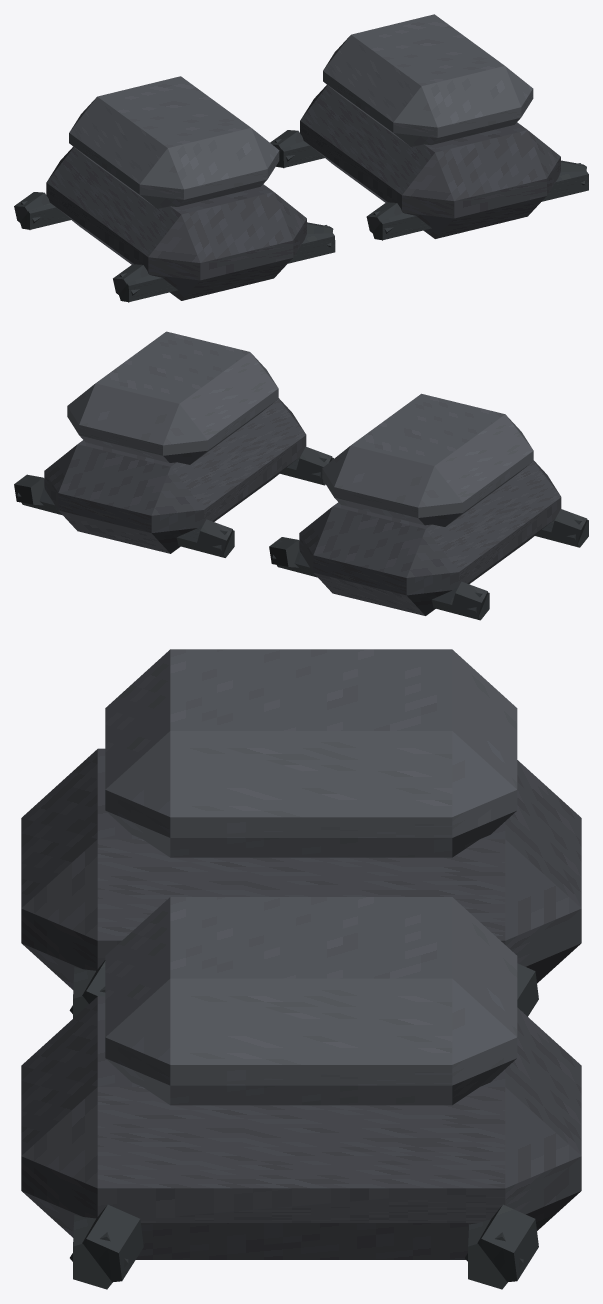
The model's file is elbow_pads.glb.
3 renders of one model, top to bottom at view 1: azimuth 30°, elevation 25°; view 2: azimuth 150°, elevation 25°; view 3: azimuth 270°, elevation 25°, orthographic. The views are drawn at different scales.
Parts seen in each view (by area): view 1: block_padded backing (×2), block_shaped guard (×2), block_adjustable strap 1 (×4), block_adjustable strap 0 (×4); view 2: block_padded backing (×2), block_shaped guard (×2), block_adjustable strap 0 (×4), block_adjustable strap 1 (×3), block_adjustable strap 2 (×2); view 3: block_shaped guard (×2), block_padded backing (×2), block_adjustable strap 2 (×3), block_adjustable strap 1 (×2).
Boxes of the visible parts, box(x1,y1,x2,y2) form: block_padded backing (×2): box(46, 85, 560, 300); block_shaped guard (×2): box(69, 14, 533, 208); block_adjustable strap 1 (×4): box(20, 139, 588, 302); block_adjustable strap 0 (×4): box(14, 130, 403, 302); block_padded backing (×2): box(44, 398, 561, 615); block_shaped guard (×2): box(67, 331, 533, 526); block_adjustable strap 0 (×4): box(196, 447, 587, 617); block_adjustable strap 1 (×3): box(17, 478, 588, 620); block_adjustable strap 2 (×2): box(14, 474, 299, 567); block_shaped guard (×2): box(105, 649, 517, 1105); block_padded backing (×2): box(21, 748, 581, 1259); block_adjustable strap 2 (×3): box(70, 963, 538, 1282); block_adjustable strap 1 (×2): box(73, 1215, 523, 1289).
Bounding box in the file's own units: 0.2408 × 0.0681 × 0.1248.
Materials: 1 (1 with a texture image).
